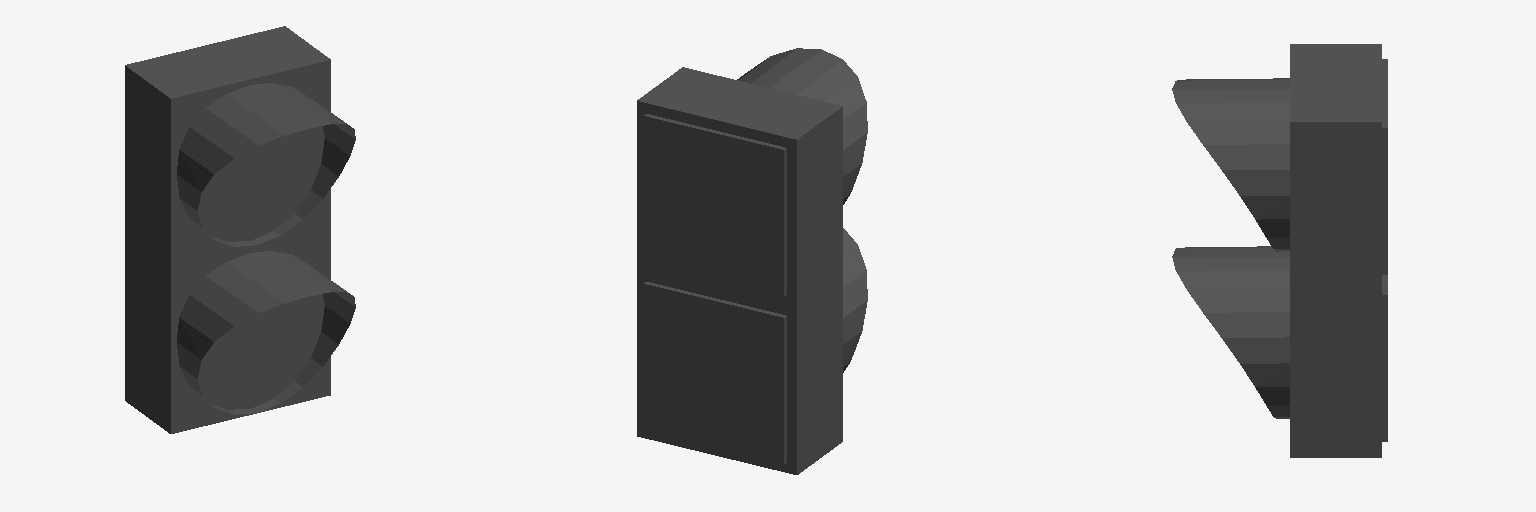
The model's file is People5.obj.
3 views of the same model, side by side, from view 1: azimuth 30°, elevation 25°; view 2: azimuth 150°, elevation 25°; view 3: azimuth 270°, elevation 25° (orthographic).
Size of the model in its own units: 1 by 2.06 by 1.17.